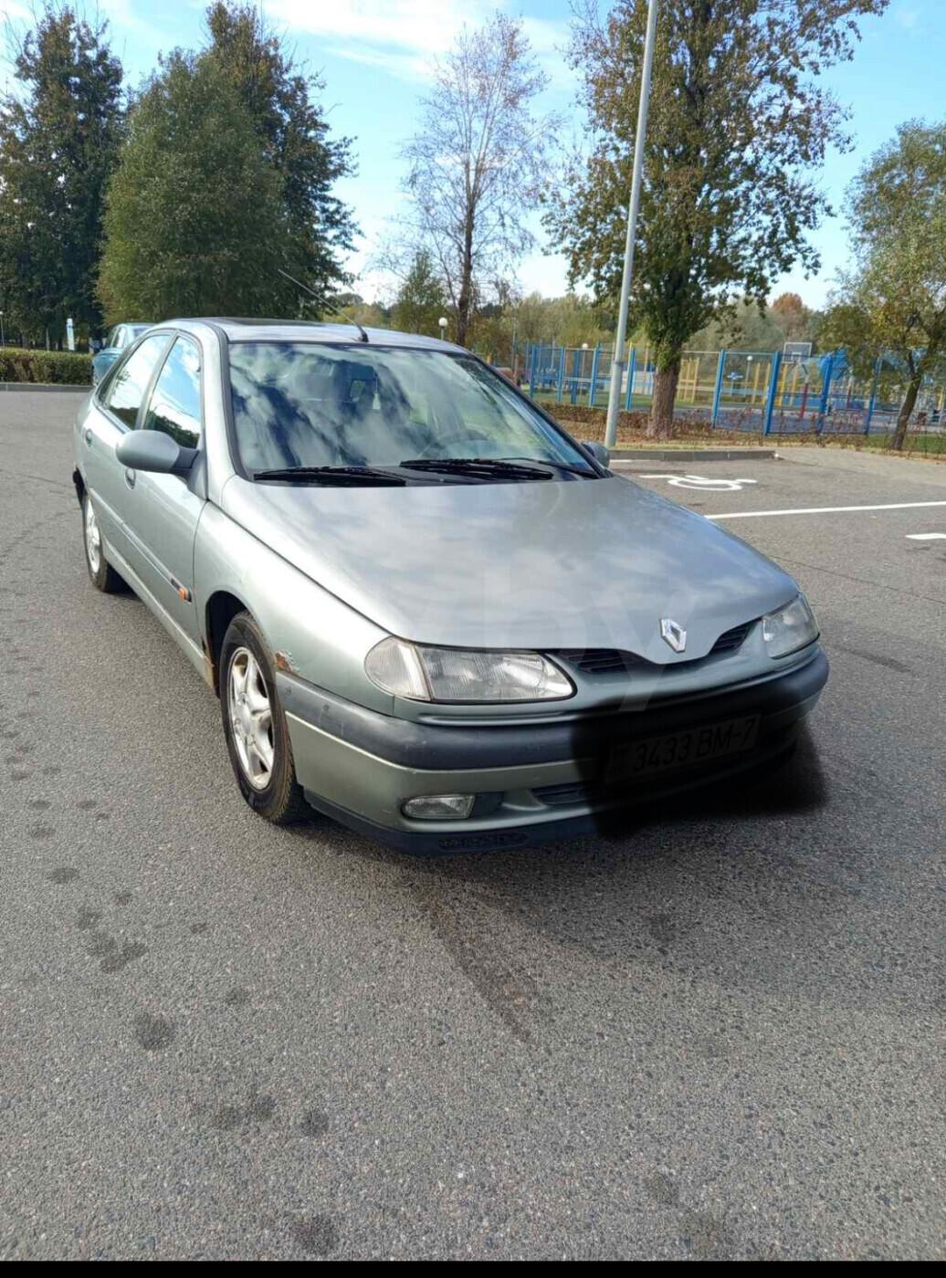Lahuna_1993-1999: (66, 314, 836, 867)
